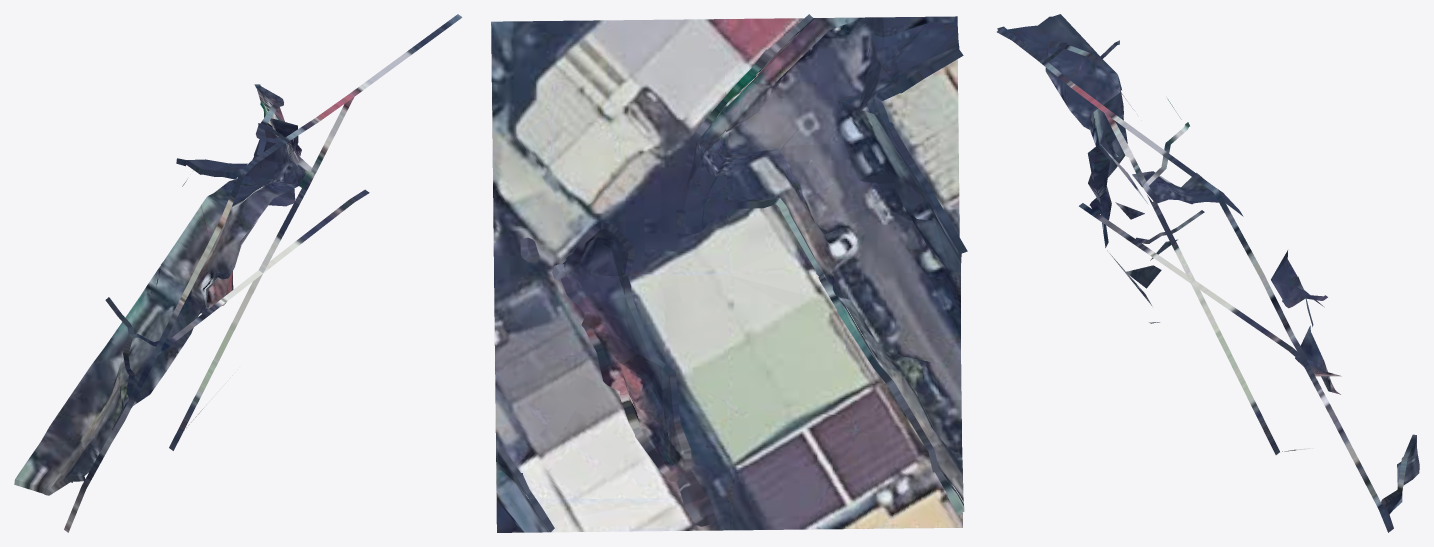
3 views of the same model, side by side, from view 1: azimuth 30°, elevation 25°; view 2: azimuth 150°, elevation 25°; view 3: azimuth 270°, elevation 25° (orthographic). The views are drawn at different scales.
Size of the model in its own units: 40.73 by 37.24 by 34.11.
1 material, 1 textured.
